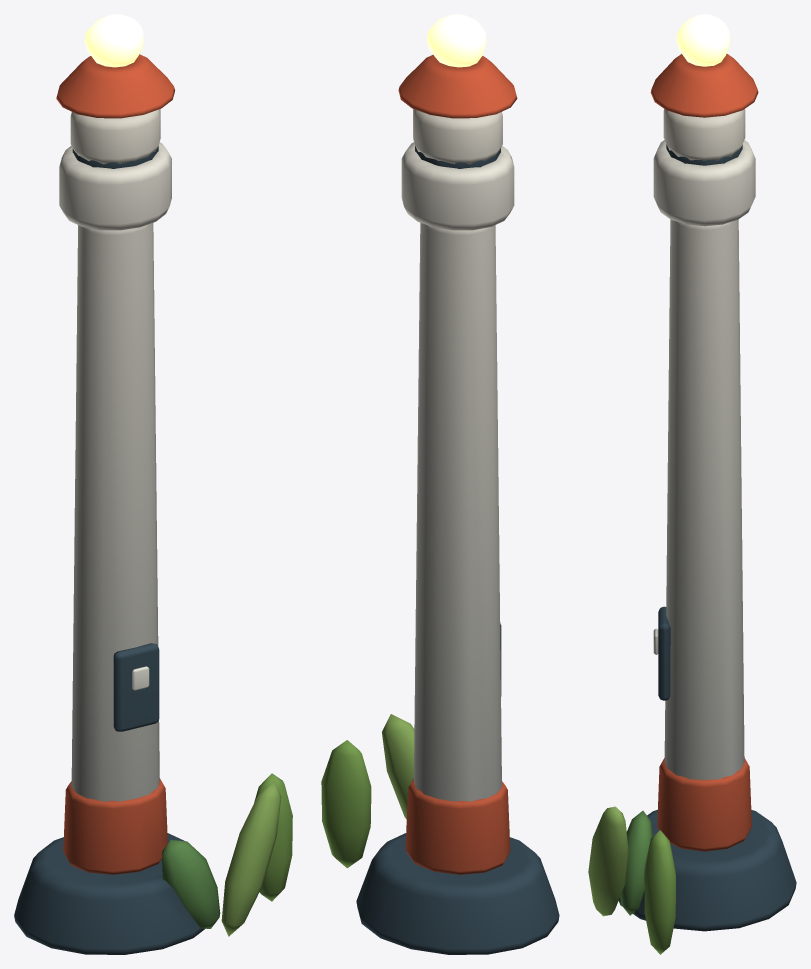
The model's file is pylon.glb.
The picture shows the model from 3 angles, left to right: view 1: azimuth 30°, elevation 25°; view 2: azimuth 150°, elevation 25°; view 3: azimuth 270°, elevation 25°; orthographic projection. The views are drawn at different scales.
Visible parts, largest first — view 1: Pylon_timber_pole, Pylon_stone_foot, Pylon_orange_boot, Pylon_ceramic_insulator, Pylon_copper_cap, decor_Grass.002, Pylon_ceramic_insulator.001, Pylon_service_hatch, decor_Grass, Pylon_lamp, decor_Grass.001; view 2: Pylon_timber_pole, Pylon_stone_foot, Pylon_orange_boot, Pylon_ceramic_insulator, Pylon_copper_cap, decor_Grass.001, Pylon_ceramic_insulator.001, Pylon_lamp, decor_Grass.002; view 3: Pylon_timber_pole, Pylon_stone_foot, Pylon_orange_boot, Pylon_ceramic_insulator, Pylon_copper_cap, Pylon_ceramic_insulator.001, decor_Grass.002, decor_Grass.001, Pylon_lamp, decor_Grass, Pylon_service_hatch.
Boxes of the visible parts, x1,y1,x2,y2 form: Pylon_timber_pole: (71,223,159,801); Pylon_stone_foot: (14,833,205,954); Pylon_orange_boot: (63,778,167,874); Pylon_ceramic_insulator: (59,142,171,230); Pylon_copper_cap: (56,54,174,118); decor_Grass.002: (221,781,281,936); Pylon_ceramic_insulator.001: (70,109,160,164); Pylon_service_hatch: (113,643,159,731); decor_Grass: (161,840,220,928); Pylon_lamp: (84,14,144,67); decor_Grass.001: (254,773,292,901); Pylon_timber_pole: (414,223,501,801); Pylon_stone_foot: (356,833,559,954); Pylon_orange_boot: (405,778,510,874); Pylon_ceramic_insulator: (401,142,514,230); Pylon_copper_cap: (398,55,517,118); decor_Grass.001: (321,740,371,868); Pylon_ceramic_insulator.001: (413,109,502,164); Pylon_lamp: (426,14,486,67); decor_Grass.002: (382,714,414,818); Pylon_timber_pole: (664,219,744,779); Pylon_stone_foot: (618,809,796,931); Pylon_orange_boot: (657,758,751,851); Pylon_ceramic_insulator: (653,140,755,226); Pylon_copper_cap: (650,54,758,117); Pylon_ceramic_insulator.001: (663,109,745,160); decor_Grass.002: (588,806,628,916); decor_Grass.001: (644,830,675,954); Pylon_lamp: (676,14,730,66); decor_Grass: (620,810,652,915); Pylon_service_hatch: (658,606,670,700).
Size of the model in its own units: 0.42 by 1.47 by 0.3172.
